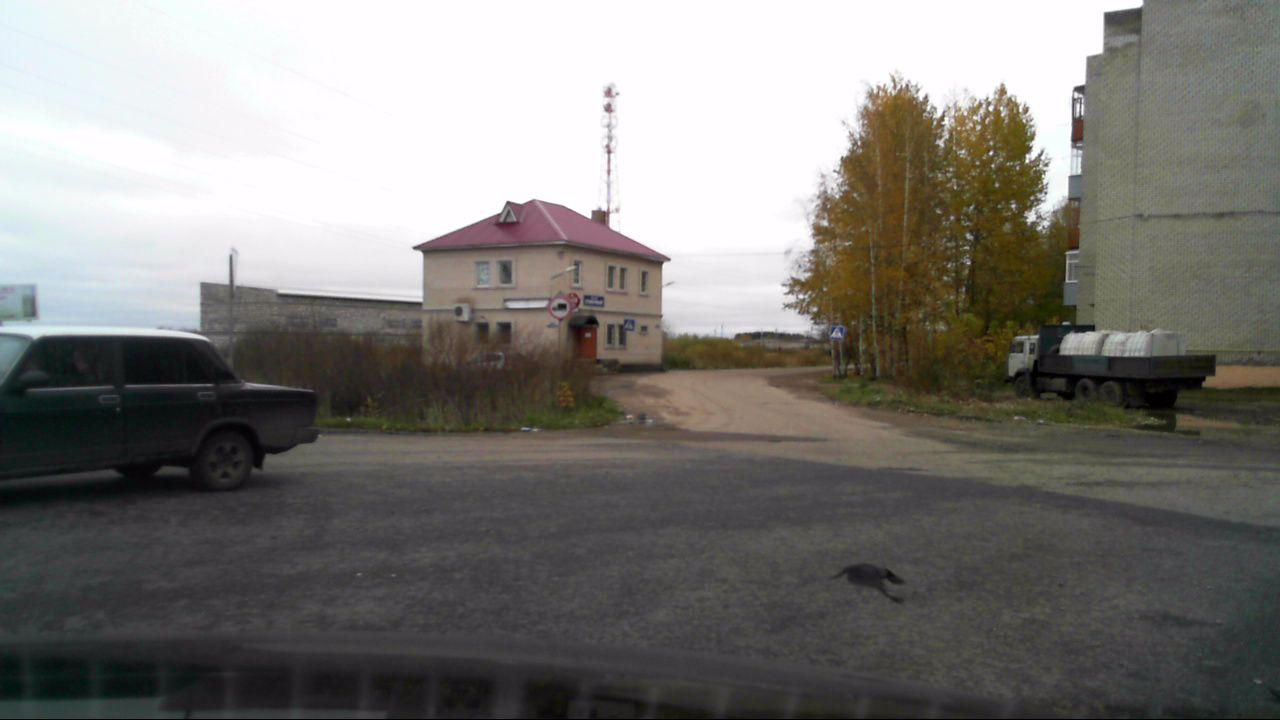road_sign: (549, 296, 571, 320)
